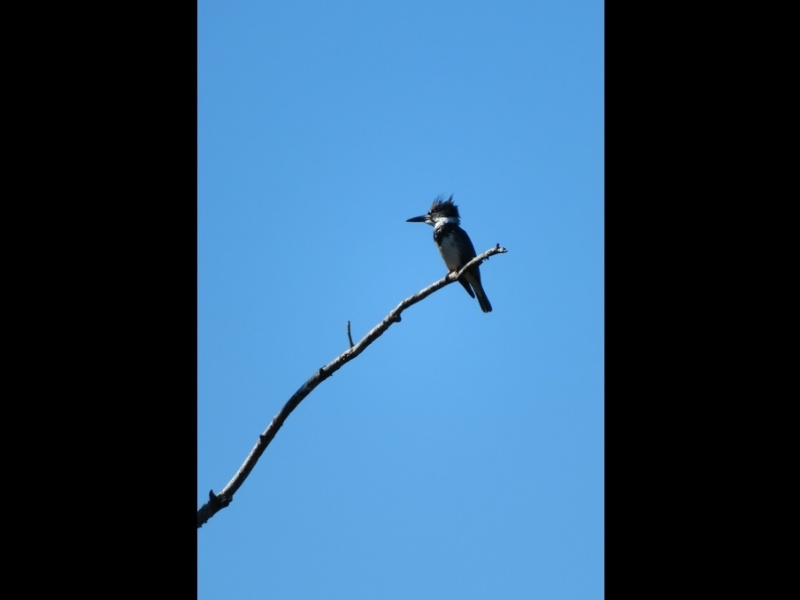kingfisher: (405, 194, 495, 316)
